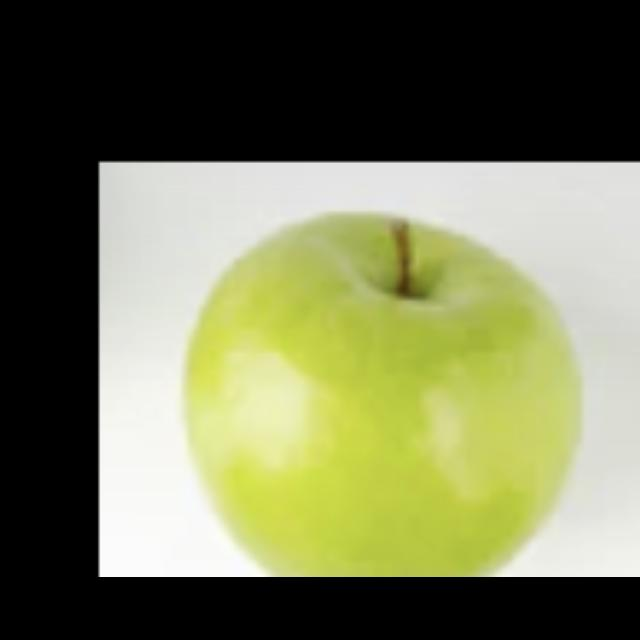Apel Segar: (178, 206, 592, 578)
